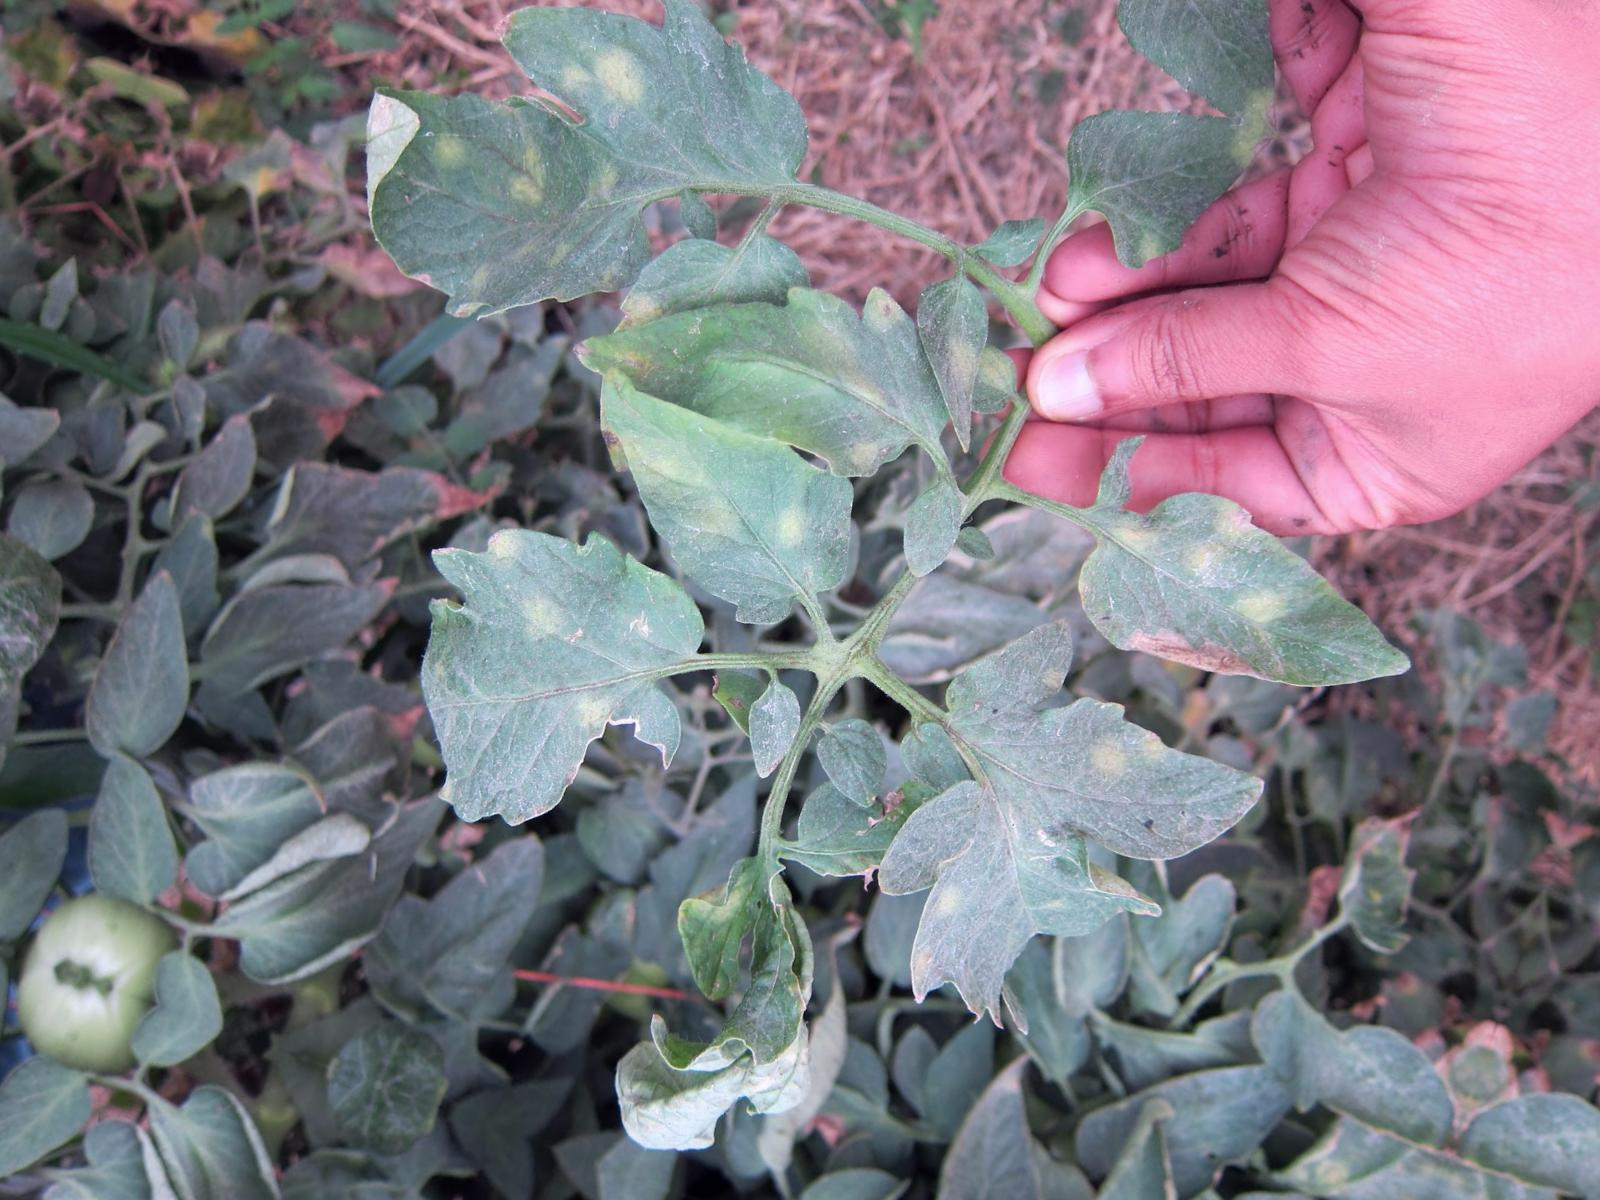Tomato mold leaf: (830, 605, 1299, 1105), (346, 479, 751, 884), (558, 160, 1023, 494), (1033, 437, 1469, 790), (271, 34, 692, 393), (523, 276, 910, 649), (406, 0, 894, 243), (583, 834, 879, 1199), (1015, 67, 1279, 310)
